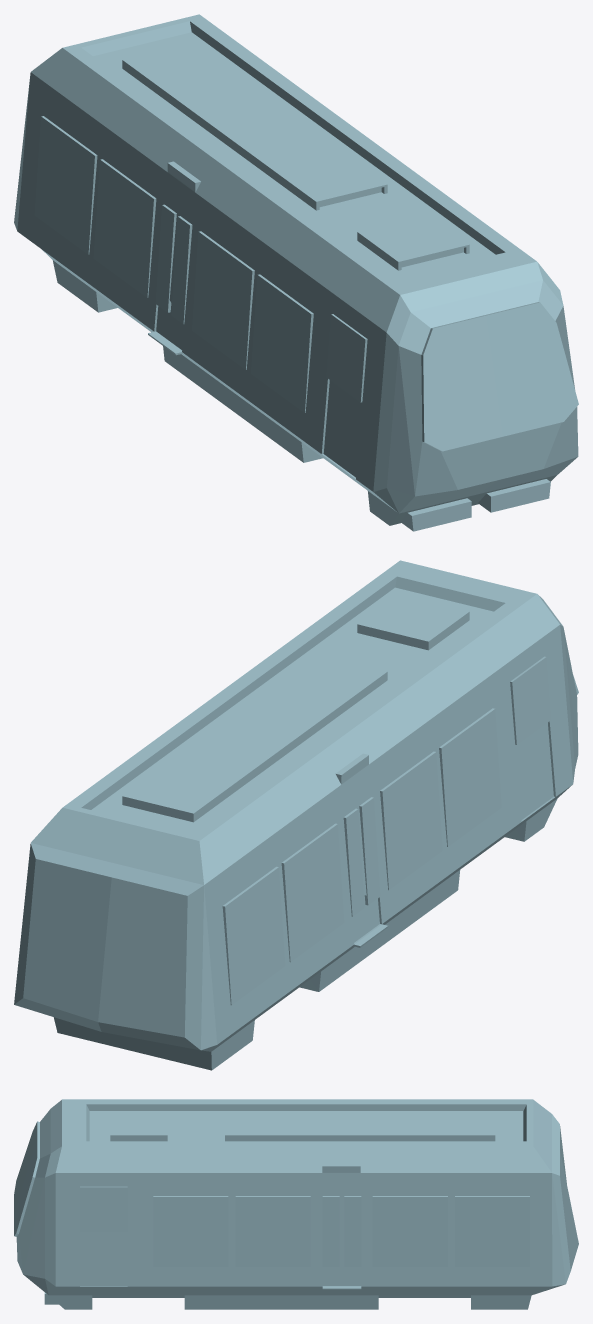
The model's file is cc0-train-lod0.glb.
3 renders of one model, top to bottom at view 1: azimuth 30°, elevation 25°; view 2: azimuth 150°, elevation 25°; view 3: azimuth 270°, elevation 25°, orthographic. The views are drawn at different scales.
Visible parts, largest first — view 1: part_0; view 2: part_0; view 3: part_0.
Part boxes in pixels (<box>): part_0: <box>14,14,578,531</box>; part_0: <box>14,560,578,1070</box>; part_0: <box>14,1099,578,1309</box>.
Bounding box in the file's own units: 2.13 × 2.2 × 7.02.
